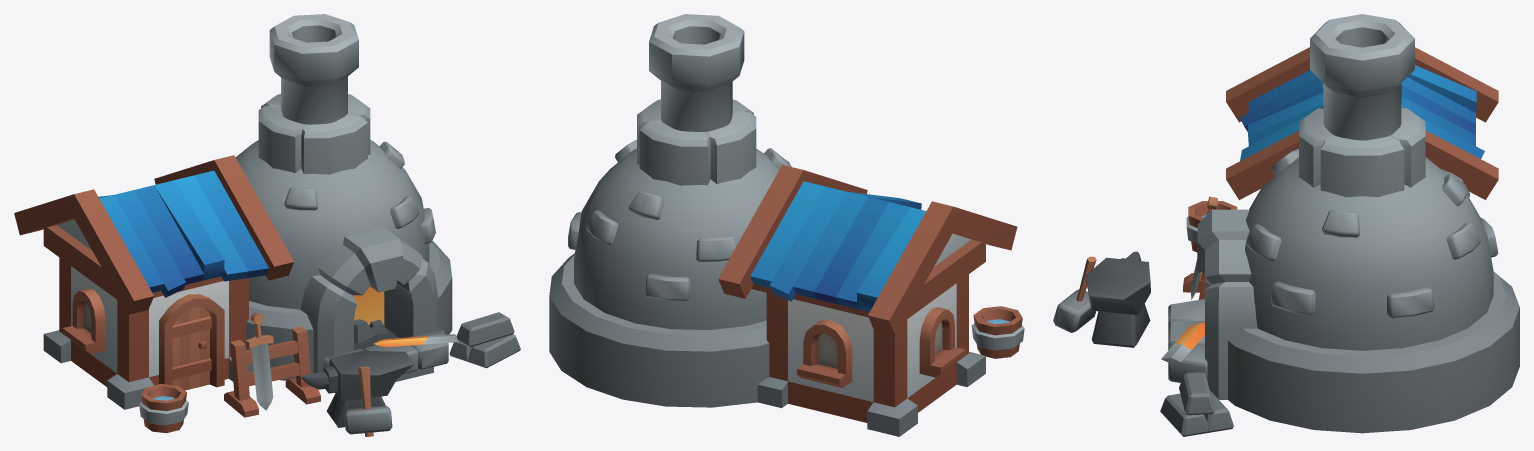
Rendered from building_blacksmith_blue-transformed.glb.
3 views of the same model, side by side, from view 1: azimuth 30°, elevation 25°; view 2: azimuth 150°, elevation 25°; view 3: azimuth 270°, elevation 25° (orthographic). The views are drawn at different scales.
Parts seen in each view (by area): view 1: building_blacksmith_blue; view 2: building_blacksmith_blue; view 3: building_blacksmith_blue.
Boxes of the visible parts, x1,y1,x2,y2 form: building_blacksmith_blue: [14, 14, 520, 436]; building_blacksmith_blue: [549, 14, 1024, 436]; building_blacksmith_blue: [1053, 14, 1519, 436].
Size of the model in its own units: 1.29 by 0.9851 by 1.25.
Materials: 1 (1 with a texture image).
